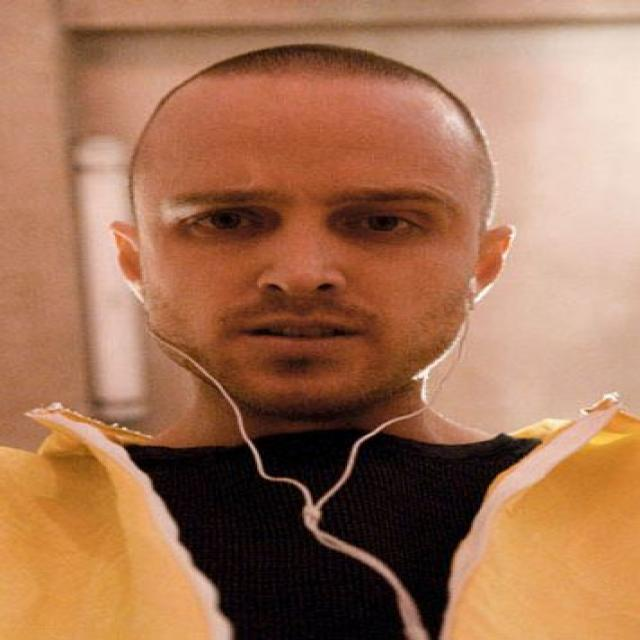bald: (95, 41, 501, 242)
